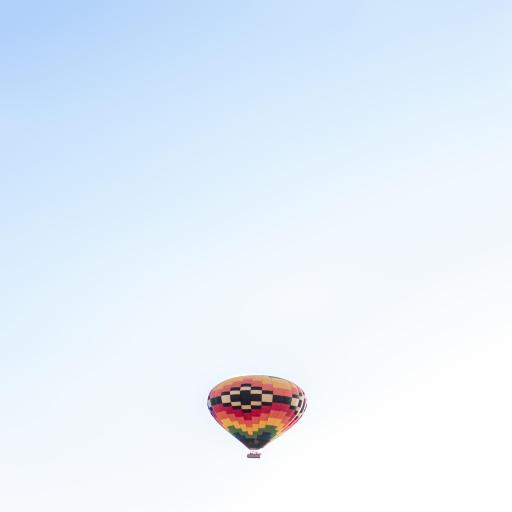hot air ballon: (207, 375, 307, 459)
